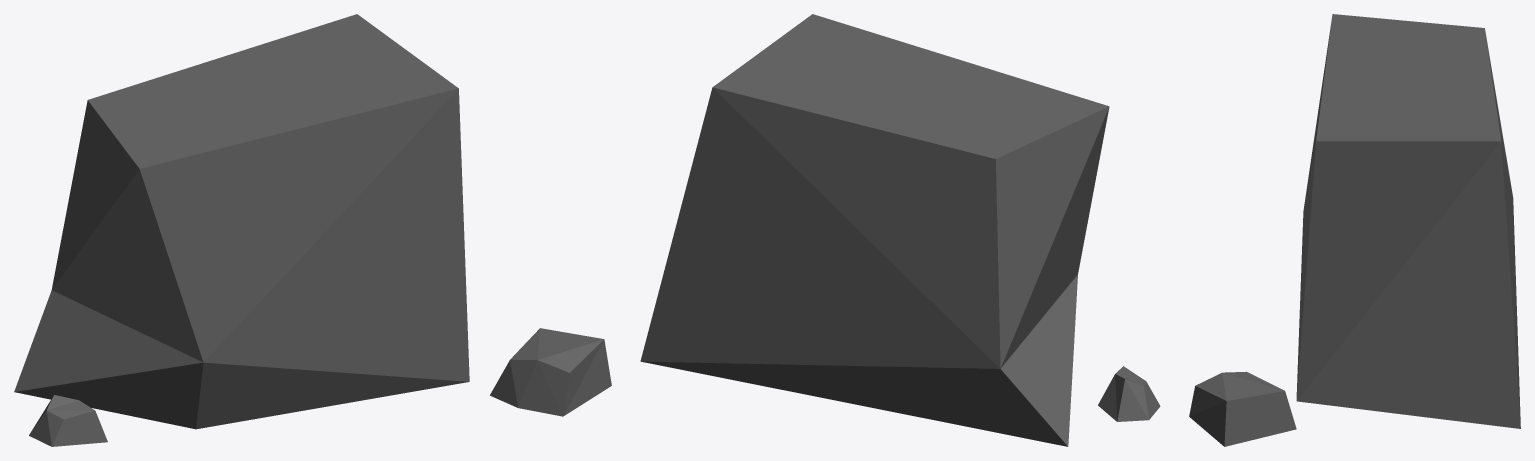
Rendered from Stone_Rail_09.FBX.
3 renders of one model, left to right at view 1: azimuth 30°, elevation 25°; view 2: azimuth 150°, elevation 25°; view 3: azimuth 270°, elevation 25°, orthographic. The views are drawn at different scales.
Visible parts, largest first — view 1: Stone_Rail_09; view 2: Stone_Rail_09; view 3: Stone_Rail_09.
Boxes of the visible parts, x1,y1,x2,y2 form: Stone_Rail_09: (14,14,611,446); Stone_Rail_09: (640,14,1160,446); Stone_Rail_09: (1189,14,1520,446).
Bounding box in the file's own units: 1.32 × 0.7349 × 0.8501.
